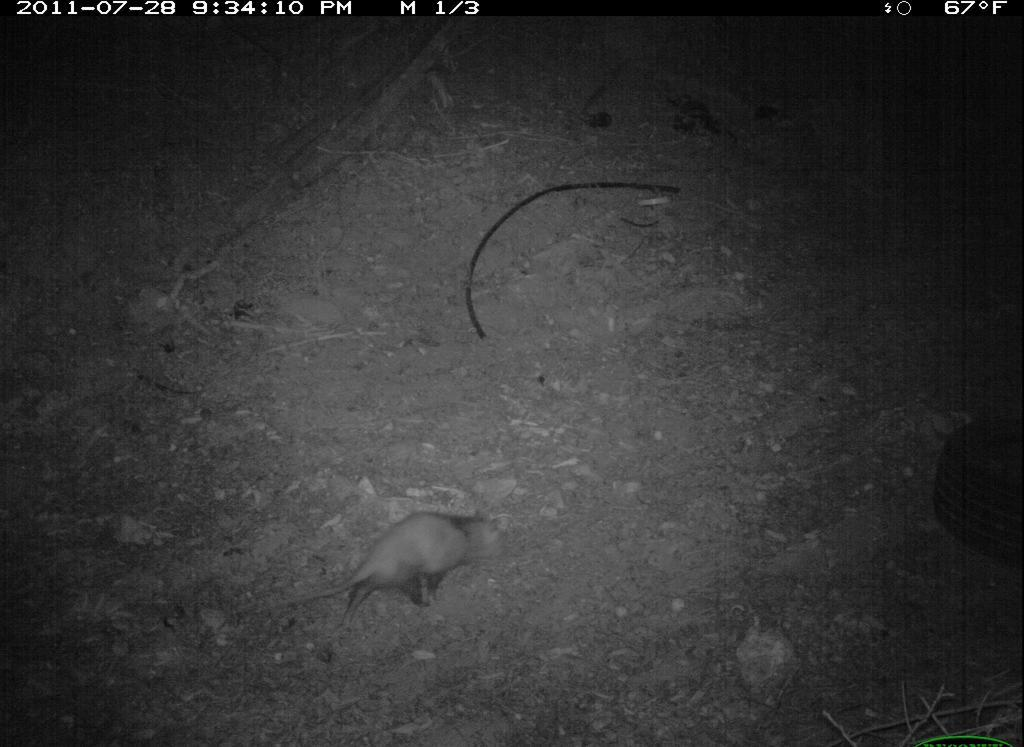opossum: (240, 506, 516, 634)
